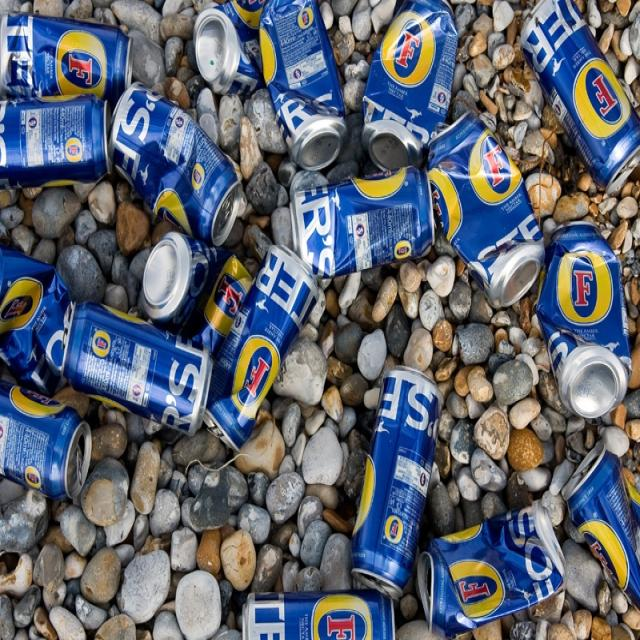fosters: (572, 56, 632, 143), (557, 247, 616, 329), (379, 8, 438, 89), (231, 333, 282, 422), (467, 129, 524, 208), (576, 517, 632, 593), (53, 27, 110, 96), (204, 257, 253, 336), (449, 561, 507, 622), (310, 592, 375, 640), (2, 275, 46, 334)
